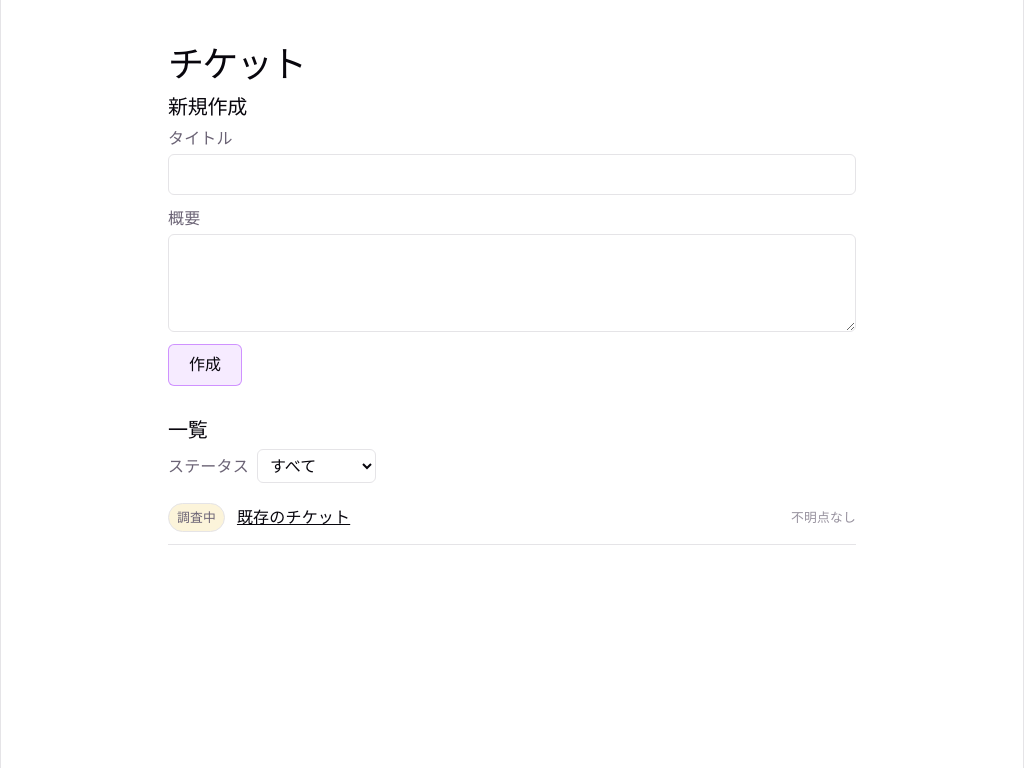
Test: チケット作成フォーム › 作成したチケットを、一覧の先頭に追加する
Expected: the link "既存のチケット" is shown, [237,506,350,529]
Type "新しいチケット" into the field labelled "タイトル" at coordinates (512, 175), box [168,154,856,195]
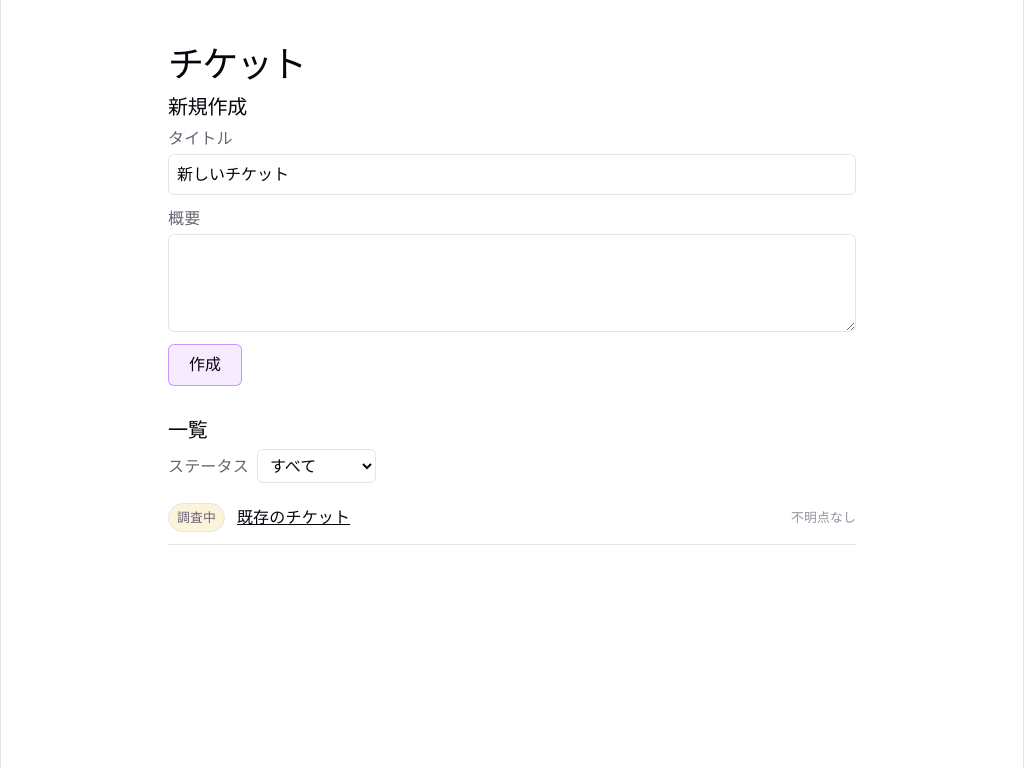
Type "概要" into the text box labelled "概要" at coordinates (512, 283), box [168,234,856,332]
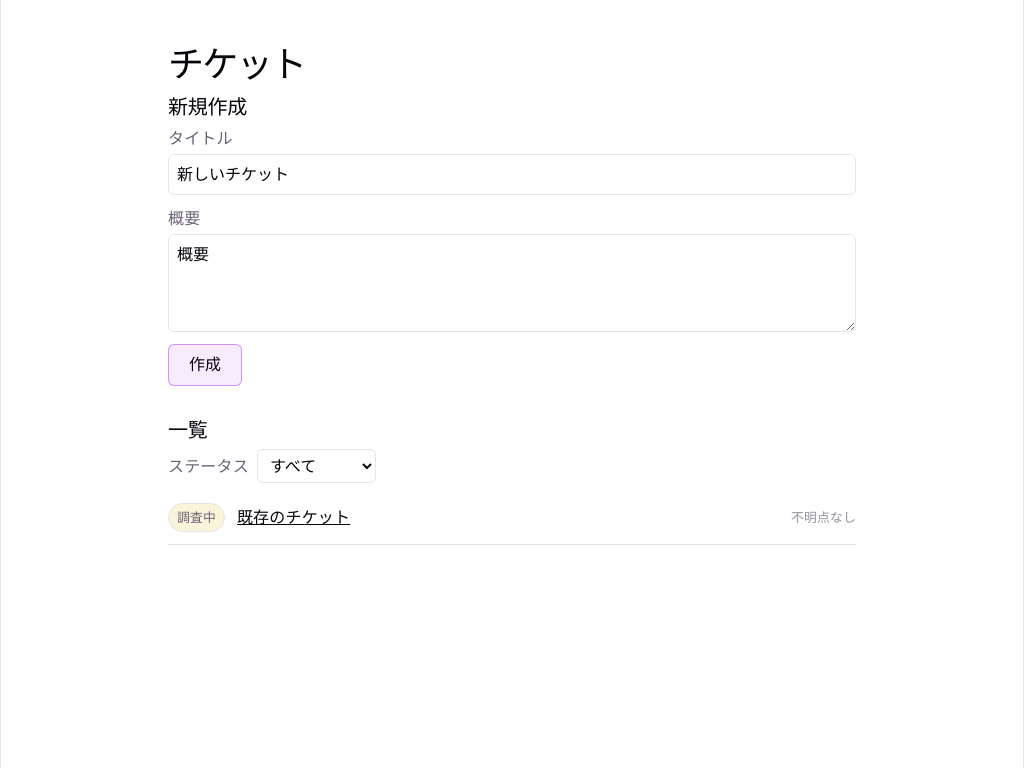
Click the button "作成" at coordinates (205, 365), box [168,344,242,386]
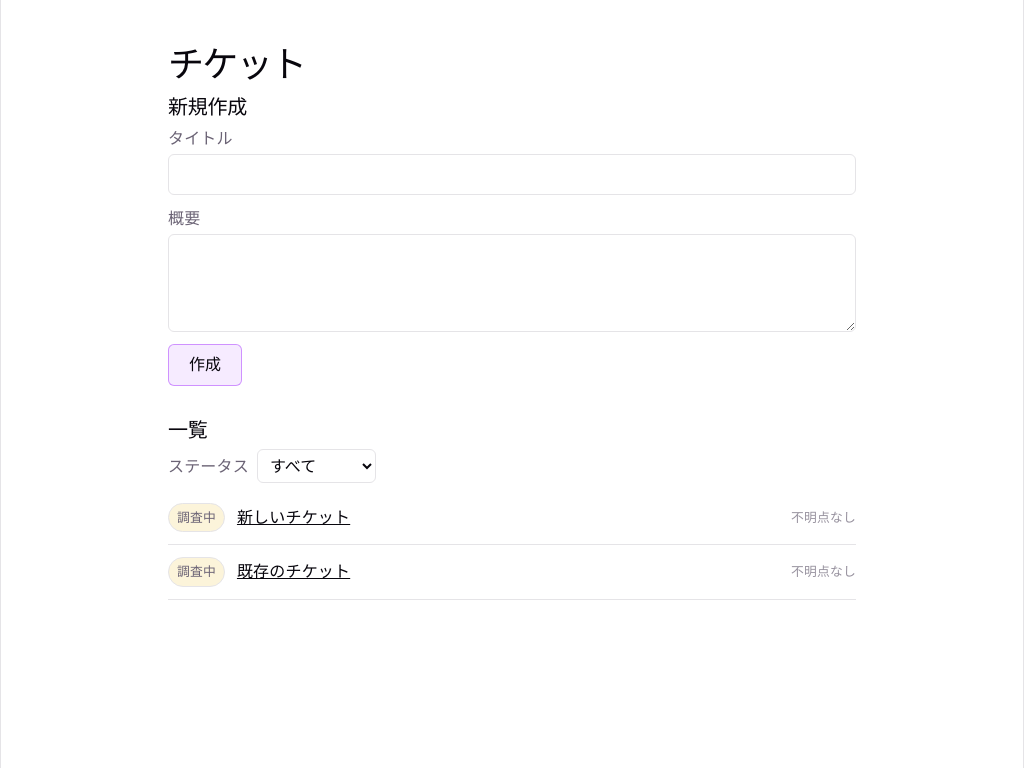
Now the link "新しいチケット" is shown, box [237,506,350,529]
Now the list item "調査中 新しいチケット 不明点なし" is shown, box [168,491,856,545]
Now the field labelled "タイトル" is empty, box [168,154,856,195]
